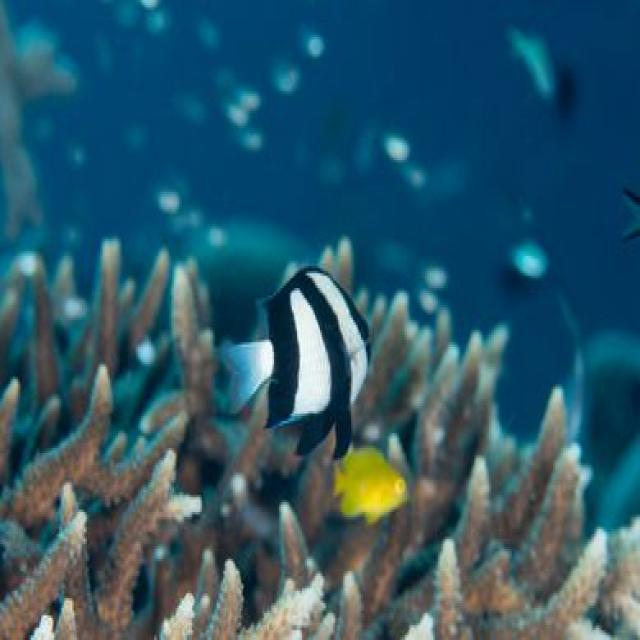ThreeStripedDamselfish: (220, 266, 373, 463)
